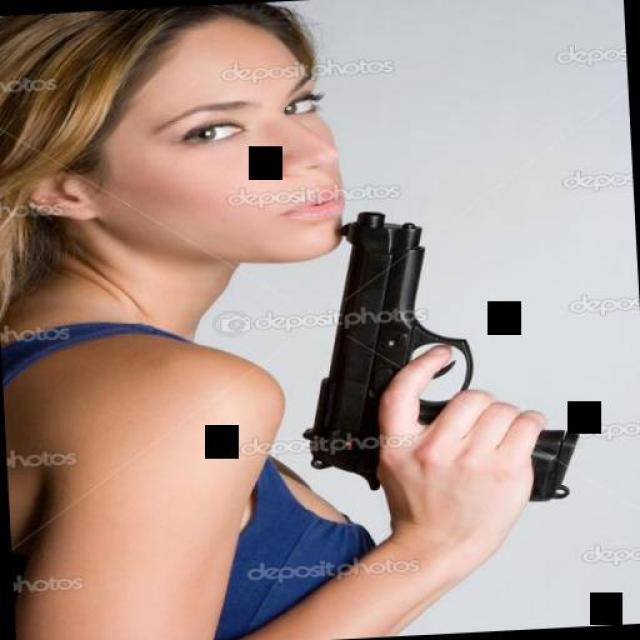gun: (293, 192, 592, 510)
